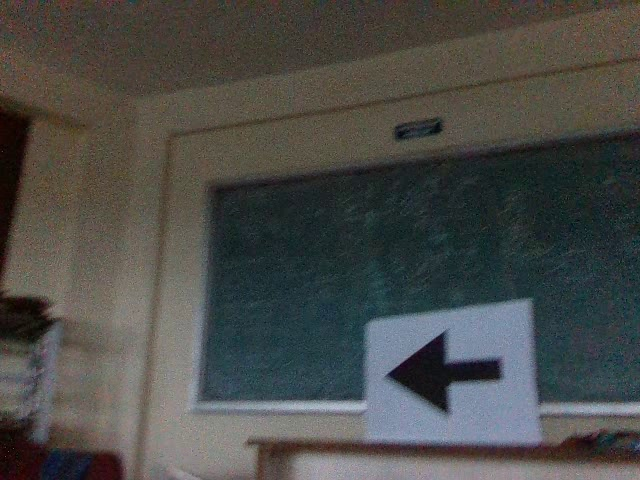Left: (376, 326, 508, 419)
